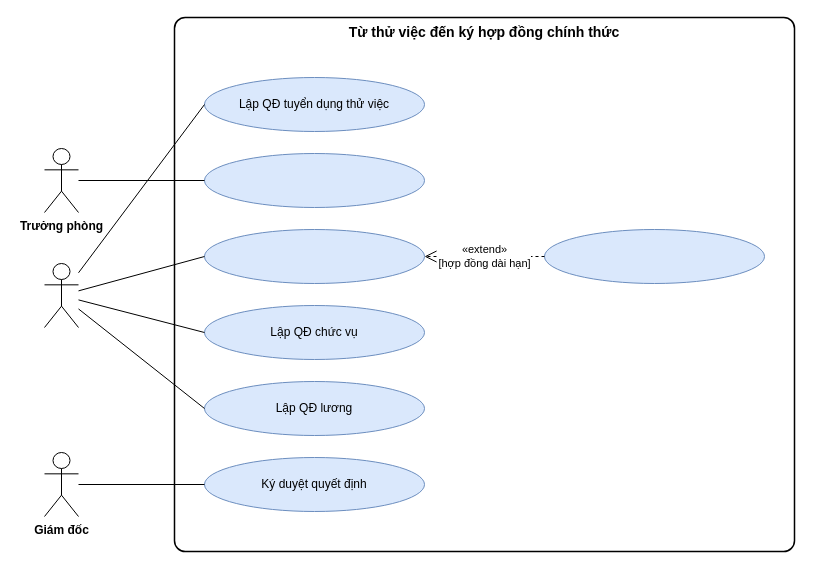
The diagram is 813 pixels wide and 570 high, and some of its shapes have lost their labels. Here are the shapes that lost their labels. From the top down, the centre of each, then its label:
At (x=314, y=180): "Đánh giá kết quả thử việc".
At (x=314, y=256): "Ký hợp đồng chính thức".
At (x=654, y=256): "Làm hồ sơ BHYT, BHXH".
At (x=61, y=295): "Phòng nhân sự".
